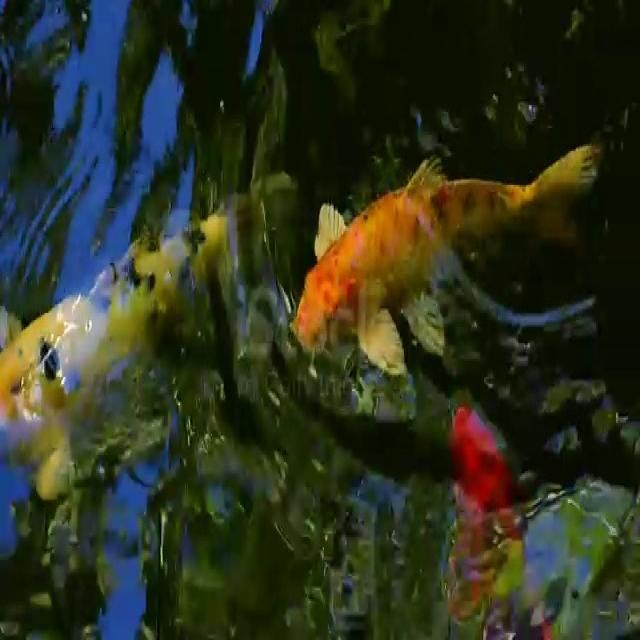fish: (0, 212, 288, 508), (294, 144, 630, 372), (431, 396, 568, 640)
